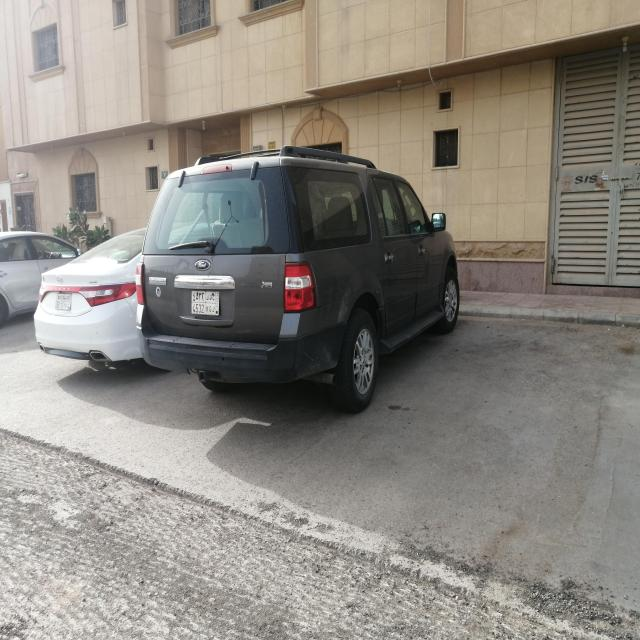license_plate: (192, 290, 220, 315), (54, 293, 72, 310)
